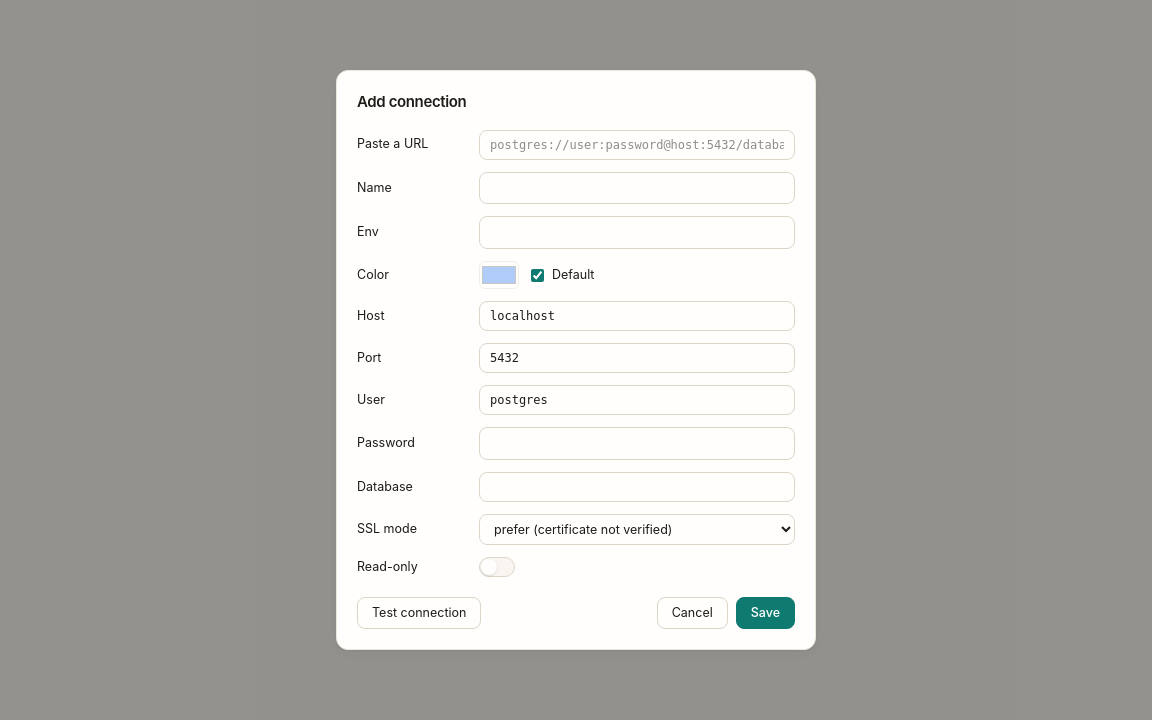
Scenario: ConnectionDialog › shows the parseUrl rejection under the input
In the field with id "conn-url": (637, 145) [479,130,795,160], type "postgres://x"
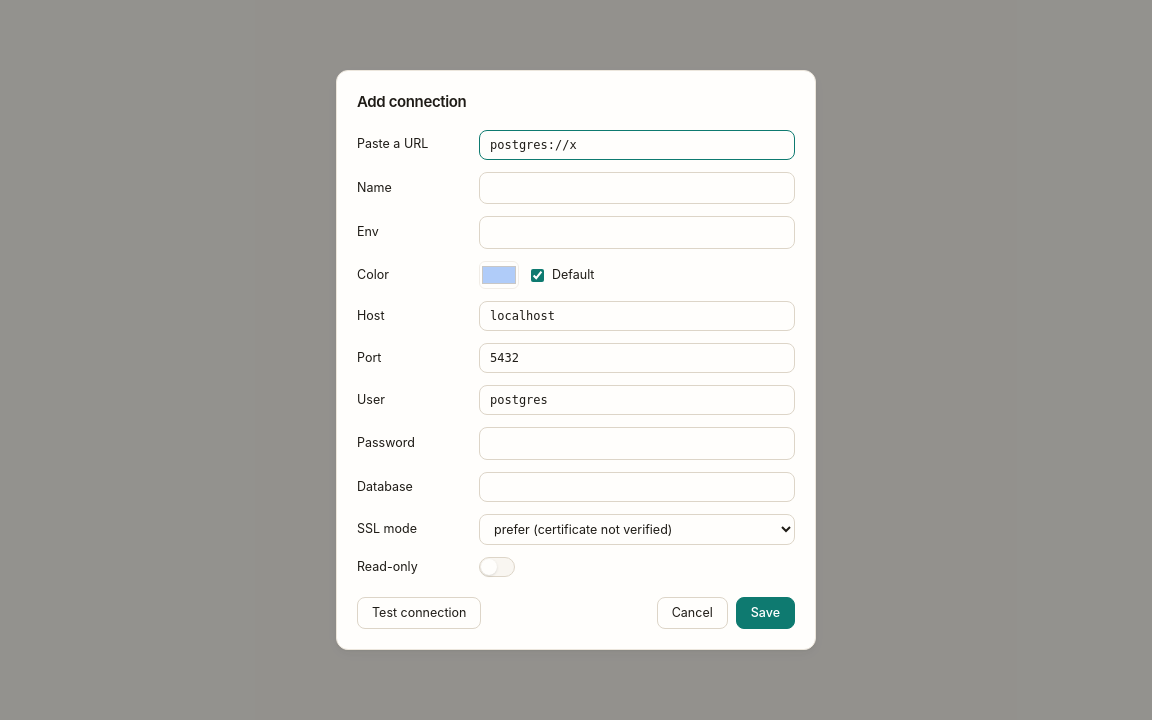
Leave the field with id "conn-url", box [479,130,795,160]
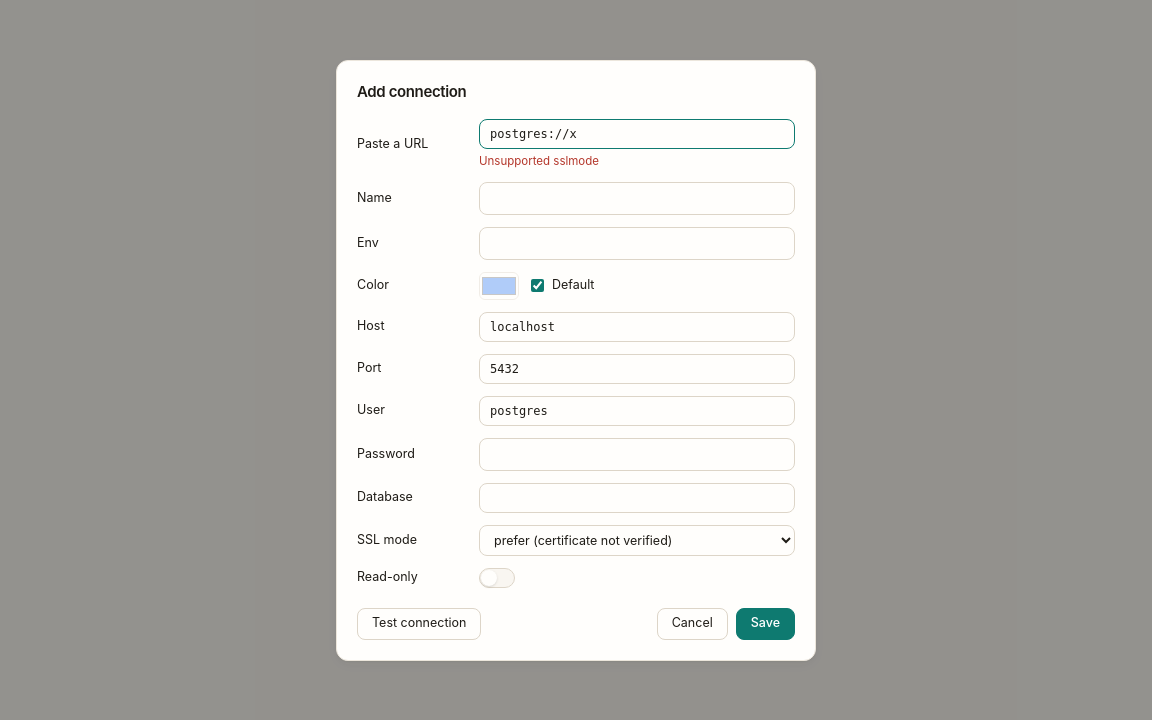
Expected: the message with test id "url-error" reads "Unsupported sslmode", [479,154,599,168]
